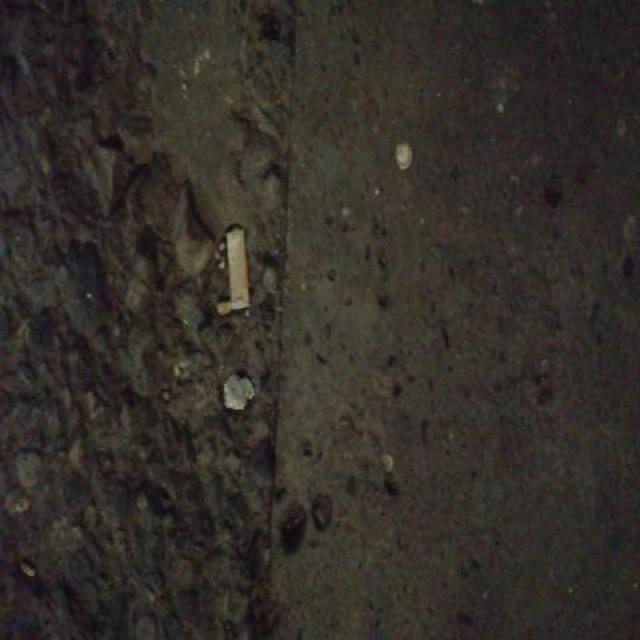non-organic waste: (222, 222, 257, 315)
